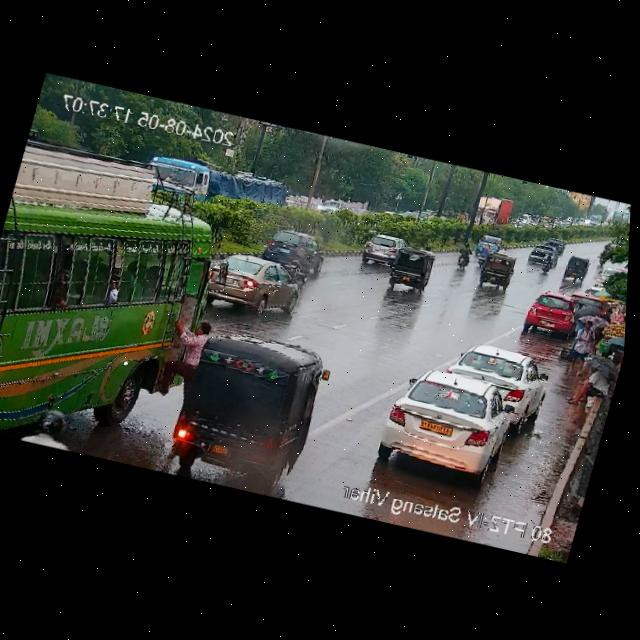bus: (0, 198, 259, 477)
car: (153, 321, 335, 489), (371, 359, 529, 484), (443, 339, 550, 421), (202, 249, 301, 318), (523, 292, 579, 336), (384, 249, 437, 291), (357, 229, 406, 268), (474, 253, 516, 290), (565, 287, 611, 316), (261, 223, 296, 260), (560, 256, 590, 284), (522, 245, 553, 267), (319, 196, 347, 219), (475, 232, 504, 251), (546, 233, 567, 254)
motorcycle: (26, 398, 82, 451), (284, 241, 320, 280), (453, 243, 475, 269), (538, 253, 554, 274), (595, 247, 608, 267)
person: (157, 313, 212, 400), (564, 354, 619, 410), (565, 314, 600, 371)
truck: (151, 143, 299, 223), (474, 195, 513, 231)
